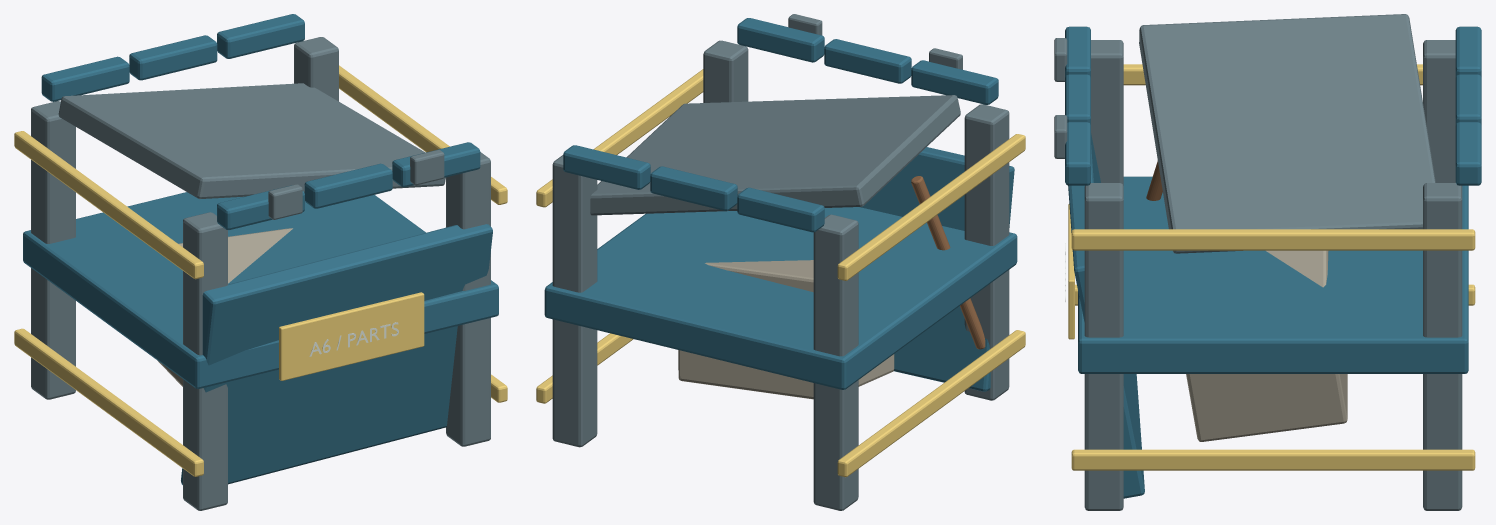
The model's file is cargo_crate_d2.glb.
3 views of the same model, side by side, from view 1: azimuth 30°, elevation 25°; view 2: azimuth 150°, elevation 25°; view 3: azimuth 270°, elevation 25° (orthographic). The views are drawn at different scales.
Parts seen in each view (by area): view 1: Compressed front panel, Crate shell.002, Buckled lid, Corner post.008, Corner post.009, Identification placard.002, Corner post.010, Vertical tie band.008, Vertical tie band.009, Vertical tie band.011, Lid slat.016, Lid slat.013 (+8 smaller); view 2: Crate shell.002, Buckled lid, Corner post.009, Corner post.011, Compressed front panel, Corner post.008, Exposed contents, Vertical tie band.008, Vertical tie band.009, Vertical tie band.011, Corner post.010, Lid slat.017 (+7 smaller); view 3: Buckled lid, Crate shell.002, Exposed contents, Corner post.010, Corner post.011, Vertical tie band.011, Vertical tie band.010, Corner post.008, Corner post.009, Compressed front panel, Lid slat.017, Lid slat.014 (+8 smaller).
Part boxes in pixels (left/top/right/bottom): Compressed front panel: left=181, top=224, right=492, bottom=484; Crate shell.002: left=23, top=192, right=498, bottom=388; Buckled lid: left=58, top=83, right=445, bottom=199; Corner post.008: left=183, top=212, right=227, bottom=510; Corner post.009: left=31, top=101, right=75, bottom=399; Identification placard.002: left=279, top=292, right=424, bottom=380; Corner post.010: left=446, top=152, right=490, bottom=446; Vertical tie band.008: left=14, top=328, right=203, bottom=476; Vertical tie band.009: left=14, top=131, right=203, bottom=279; Vertical tie band.011: left=339, top=65, right=507, bottom=204; Lid slat.016: left=129, top=35, right=217, bottom=80; Lid slat.013: left=304, top=163, right=392, bottom=208; Crate shell.002: left=544, top=207, right=1017, bottom=389; Buckled lid: left=590, top=95, right=960, bottom=215; Corner post.009: left=813, top=214, right=858, bottom=510; Corner post.011: left=552, top=155, right=597, bottom=447; Compressed front panel: left=860, top=147, right=1014, bottom=391; Corner post.008: left=964, top=104, right=1009, bottom=400; Exposed contents: left=678, top=260, right=894, bottom=399; Vertical tie band.008: left=837, top=330, right=1025, bottom=477; Vertical tie band.009: left=837, top=134, right=1025, bottom=280; Vertical tie band.011: left=536, top=69, right=703, bottom=207; Corner post.010: left=703, top=40, right=748, bottom=102; Lid slat.017: left=563, top=145, right=650, bottom=189; Buckled lid: left=1139, top=14, right=1435, bottom=253; Crate shell.002: left=1078, top=176, right=1468, bottom=373; Exposed contents: left=1186, top=250, right=1347, bottom=441; Corner post.010: left=1084, top=183, right=1123, bottom=510; Corner post.011: left=1423, top=183, right=1462, bottom=510; Vertical tie band.011: left=1071, top=229, right=1475, bottom=250; Vertical tie band.010: left=1071, top=449, right=1475, bottom=470; Corner post.008: left=1091, top=40, right=1123, bottom=185; Corner post.009: left=1423, top=40, right=1462, bottom=186; Compressed front panel: left=1068, top=133, right=1144, bottom=498; Lid slat.017: left=1455, top=122, right=1481, bottom=185; Lid slat.014: left=1065, top=122, right=1090, bottom=185.
Size of the model in its own units: 1.86 by 1.78 by 1.97.
